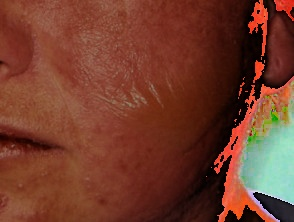SJS-TEN: (0, 37, 283, 222)
